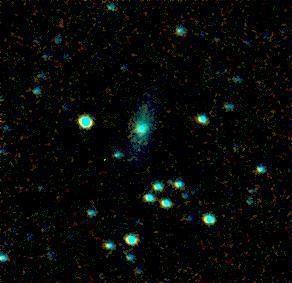star: (116, 37, 146, 67)
